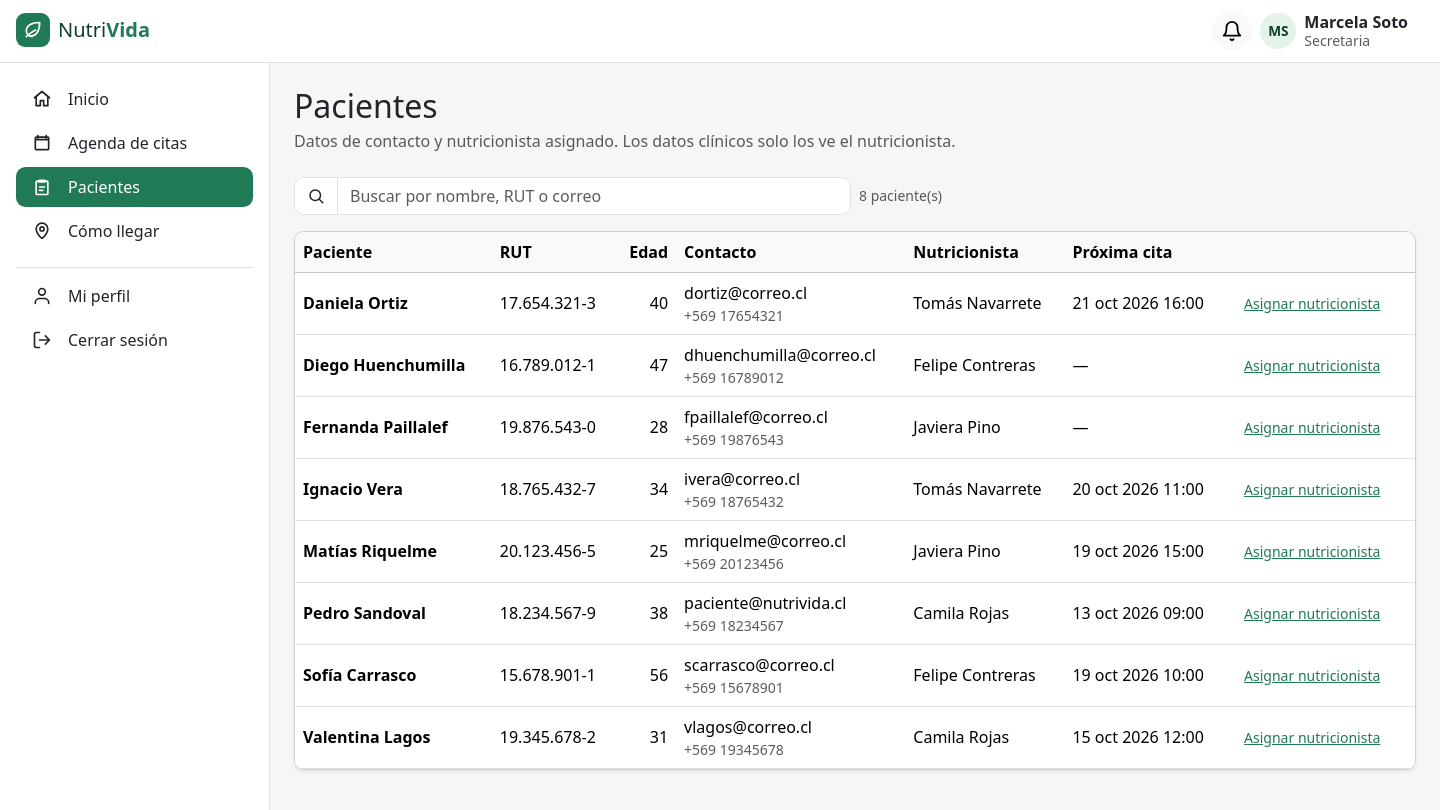
Test: Vistas de la secretaria › Pacientes: busca por nombre y oculta los datos clínicos a la secretaria
Expected: the text "8 paciente(s)" is shown, [859,186,942,205]
Type "pedro" into the search field named "Buscar paciente" at {"x": 594, "y": 196}, box [337,177,851,215]
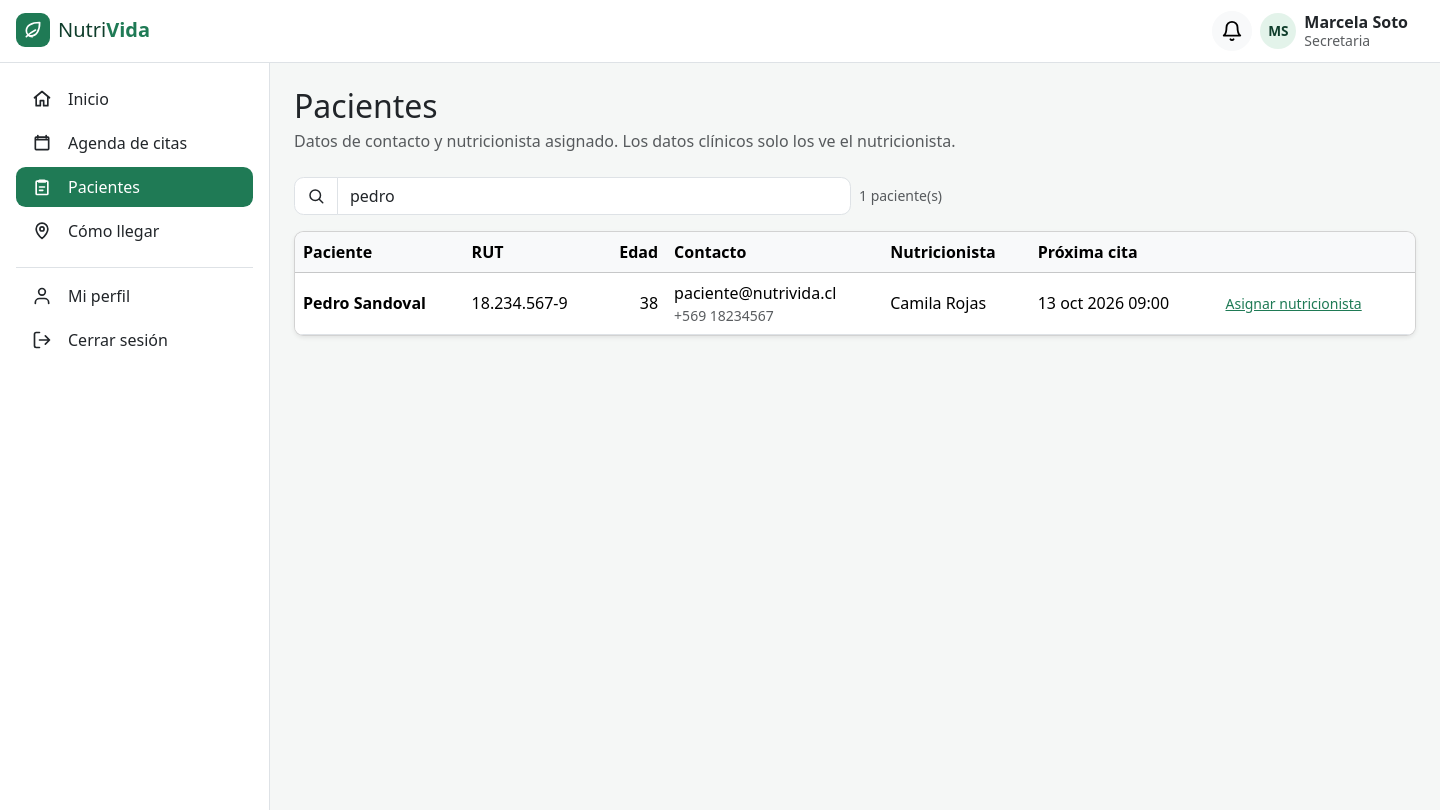
Now the text "1 paciente(s)" is shown, box [859,186,942,205]
